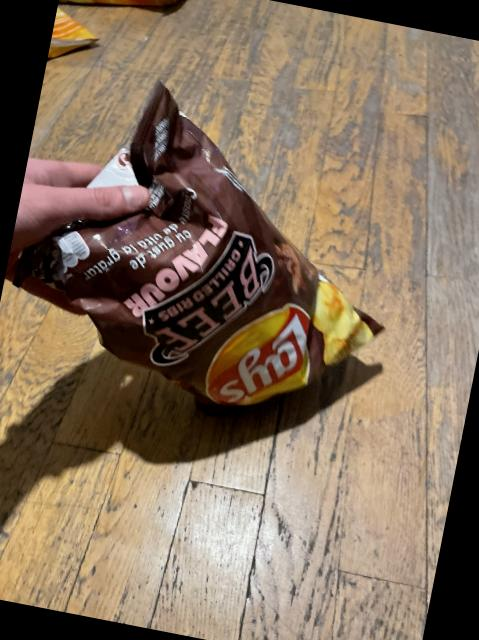Chio Cascaval 125g: (57, 0, 199, 28)
Chio Hula Hoops Cheese 70g: (46, 0, 107, 70)
Lays Beef Grilled Ribs 125g: (0, 65, 415, 428)
